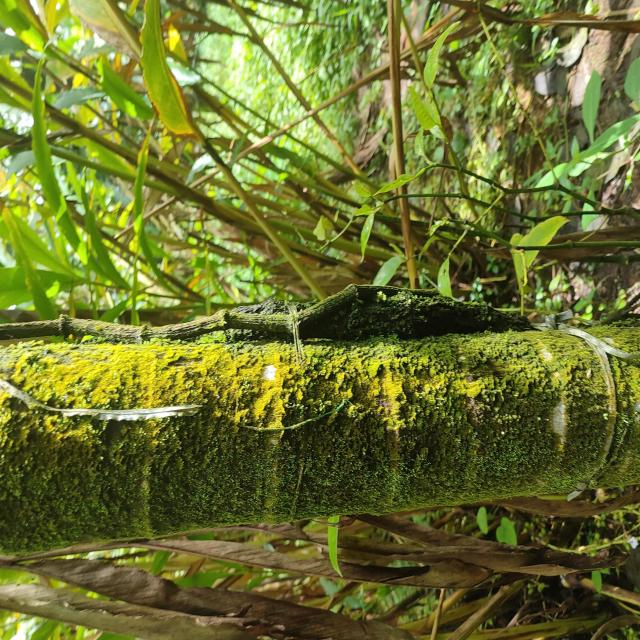Healthy_Trunk: (68, 280, 576, 558)
